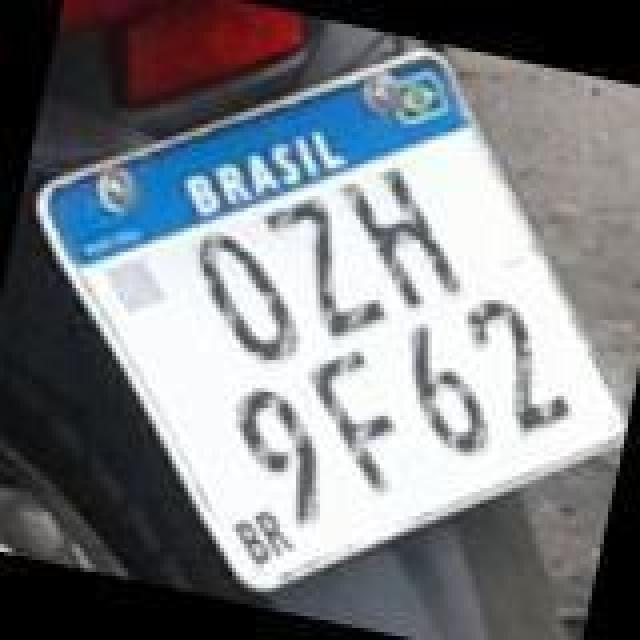2: (444, 286, 588, 442)
6: (370, 316, 510, 468)
9: (202, 374, 342, 538)
F: (282, 332, 422, 500)
H: (320, 156, 480, 324)
O: (170, 220, 326, 372)
Z: (240, 180, 408, 348)
